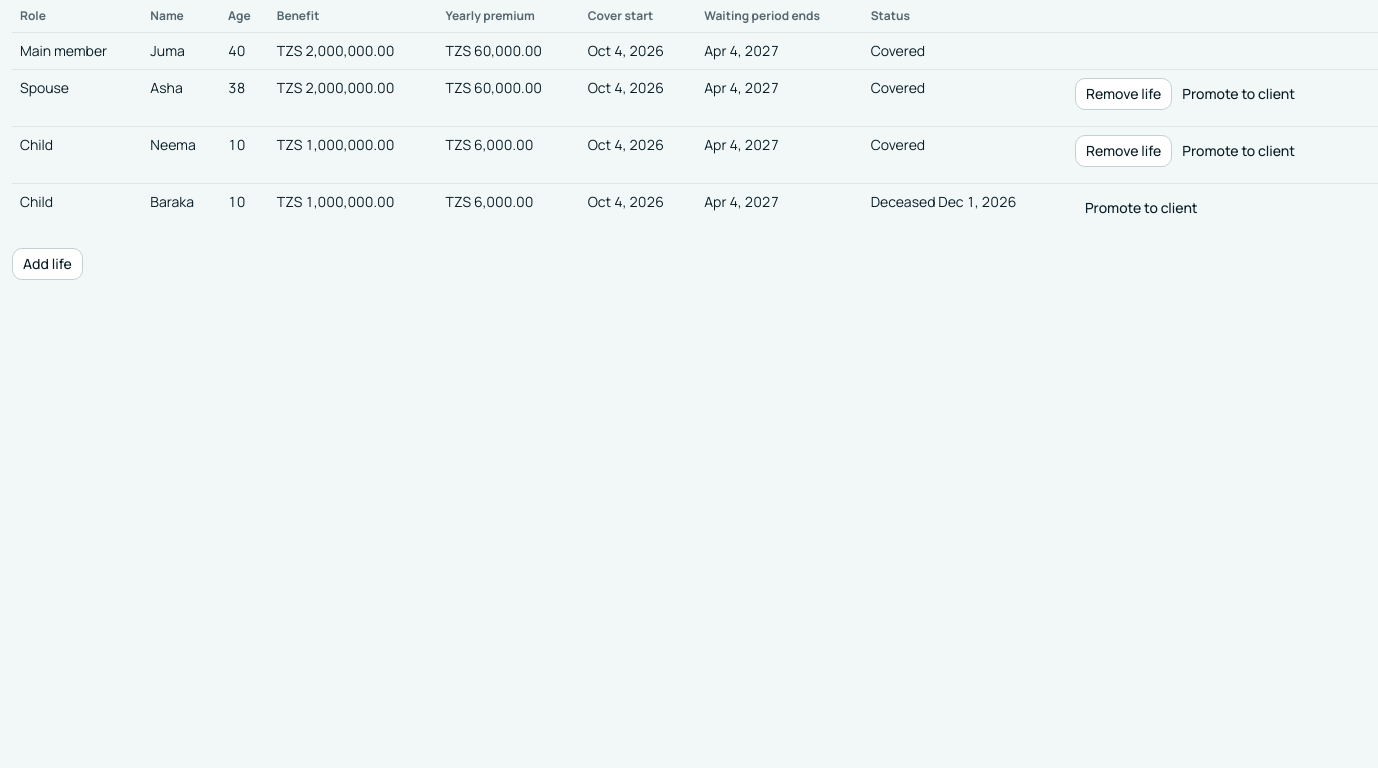
Test: CoveredLivesPanel › shows the refusal in the server words when a life cannot be added
Expected: the table named "Covered lives" is shown, 12,0 -> 1377,232
Click the button "Add life" at point(47, 264), box 12,248 -> 83,280
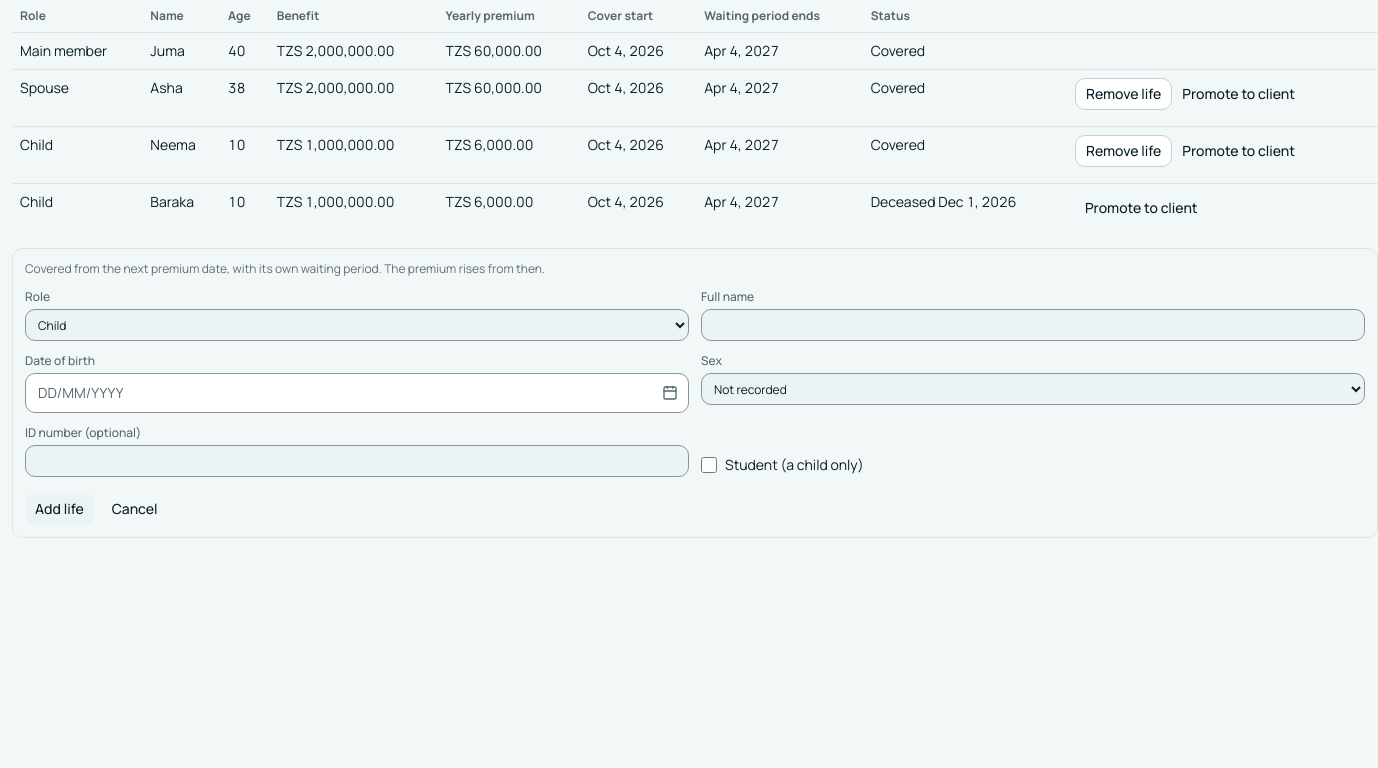
Expected: the field labelled "Full name" is shown, 701,309 -> 1365,341
